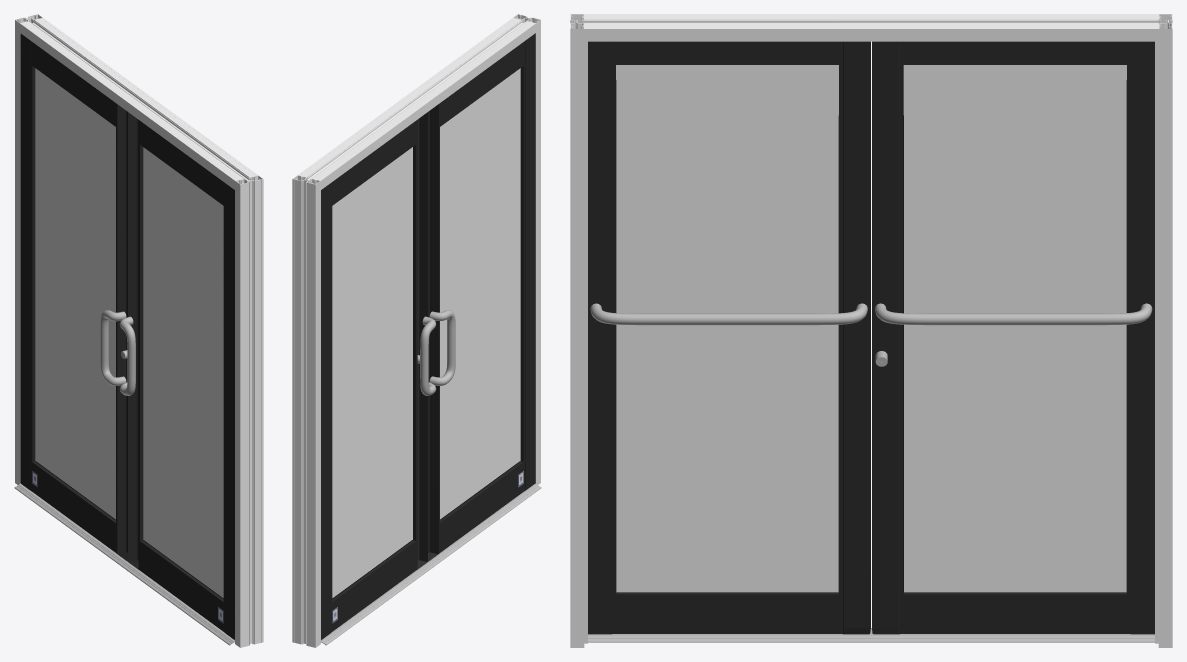
File: Framed_D350_Pair_Animated_DU.glb
The picture shows the model from 3 angles, left to right: view 1: azimuth 30°, elevation 25°; view 2: azimuth 150°, elevation 25°; view 3: azimuth 270°, elevation 25°; orthographic projection. The views are drawn at different scales.
Visible parts, largest first — view 1: D350.001, Cube.010, PROFILE_curve_.018, D350, PROFILE_curve_.019, PROFILE_curve_.063, PROFILE_curve_.014, PROFILE_curve_.008, PROFILE_curve_.023, PROFILE_curve_.062, PROFILE_curve_.016, PROFILE_curve_.061 (+2 smaller); view 2: D350.001, Cube.010, PROFILE_curve_.022, PROFILE_curve_.063, D350, PROFILE_curve_.023, PROFILE_curve_.014, PROFILE_curve_.008, PROFILE_curve_.019, PROFILE_curve_.062, PROFILE_curve_.016, PROFILE_curve_.061 (+2 smaller); view 3: D350.001, Cube.010, PROFILE_curve_.063, D350, PROFILE_curve_.008, PROFILE_curve_.023, PROFILE_curve_.019, PROFILE_curve_.062, PROFILE_curve_.014, PROFILE_curve_.061, PROFILE_curve_.016, NurbsPath.002 (+3 smaller).
Part boxes in pixels (left/top/right/bottom): D350.001: left=128, top=112, right=234, bottom=639; Cube.010: left=35, top=68, right=115, bottom=519; PROFILE_curve_.018: left=242, top=179, right=260, bottom=647; D350: left=20, top=33, right=35, bottom=491; PROFILE_curve_.019: left=235, top=175, right=263, bottom=647; PROFILE_curve_.063: left=116, top=103, right=127, bottom=561; PROFILE_curve_.014: left=23, top=18, right=255, bottom=180; PROFILE_curve_.008: left=20, top=18, right=257, bottom=189; PROFILE_curve_.023: left=15, top=14, right=42, bottom=484; PROFILE_curve_.062: left=32, top=461, right=115, bottom=552; PROFILE_curve_.016: left=14, top=484, right=234, bottom=645; PROFILE_curve_.061: left=32, top=42, right=115, bottom=126; D350.001: left=428, top=33, right=535, bottom=561; Cube.010: left=332, top=147, right=412, bottom=597; PROFILE_curve_.022: left=295, top=179, right=313, bottom=647; PROFILE_curve_.063: left=413, top=112, right=427, bottom=570; D350: left=321, top=182, right=332, bottom=639; PROFILE_curve_.023: left=292, top=175, right=320, bottom=647; PROFILE_curve_.014: left=300, top=18, right=532, bottom=180; PROFILE_curve_.008: left=298, top=18, right=535, bottom=189; PROFILE_curve_.019: left=513, top=14, right=540, bottom=484; PROFILE_curve_.062: left=332, top=540, right=415, bottom=631; PROFILE_curve_.016: left=321, top=484, right=541, bottom=645; PROFILE_curve_.061: left=332, top=121, right=415, bottom=205; D350.001: left=588, top=41, right=870, bottom=634; Cube.010: left=903, top=65, right=1126, bottom=592; PROFILE_curve_.063: left=872, top=41, right=903, bottom=634; D350: left=1127, top=41, right=1154, bottom=634; PROFILE_curve_.008: left=584, top=14, right=1158, bottom=41; PROFILE_curve_.023: left=1158, top=14, right=1172, bottom=647; PROFILE_curve_.019: left=570, top=14, right=584, bottom=647; PROFILE_curve_.062: left=903, top=592, right=1126, bottom=633; PROFILE_curve_.014: left=584, top=15, right=1158, bottom=27; PROFILE_curve_.061: left=903, top=41, right=1126, bottom=64; PROFILE_curve_.016: left=588, top=628, right=1154, bottom=642; NurbsPath.002: left=590, top=303, right=867, bottom=325.
Size of the model in its own units: 0.2107 by 2.18 by 1.92.
6 materials, 1 textured.
